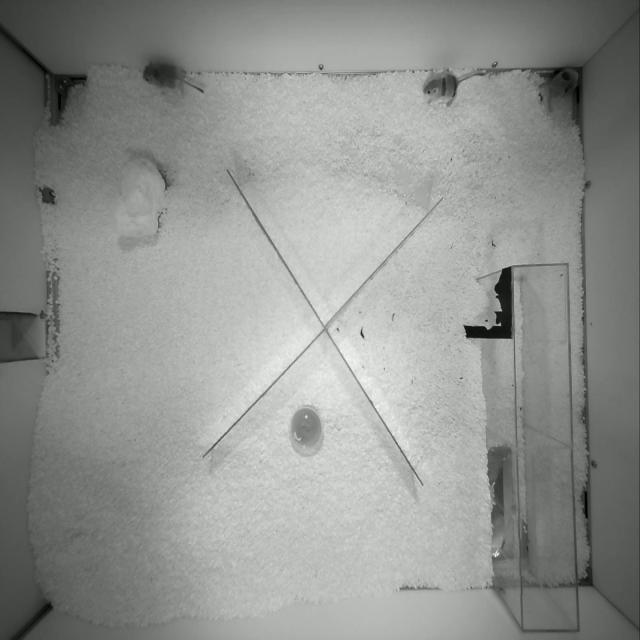pup_fluffy: (143, 61, 203, 92)
pup_h_stripe: (423, 72, 484, 106)
pup_spotted: (539, 68, 579, 112)
